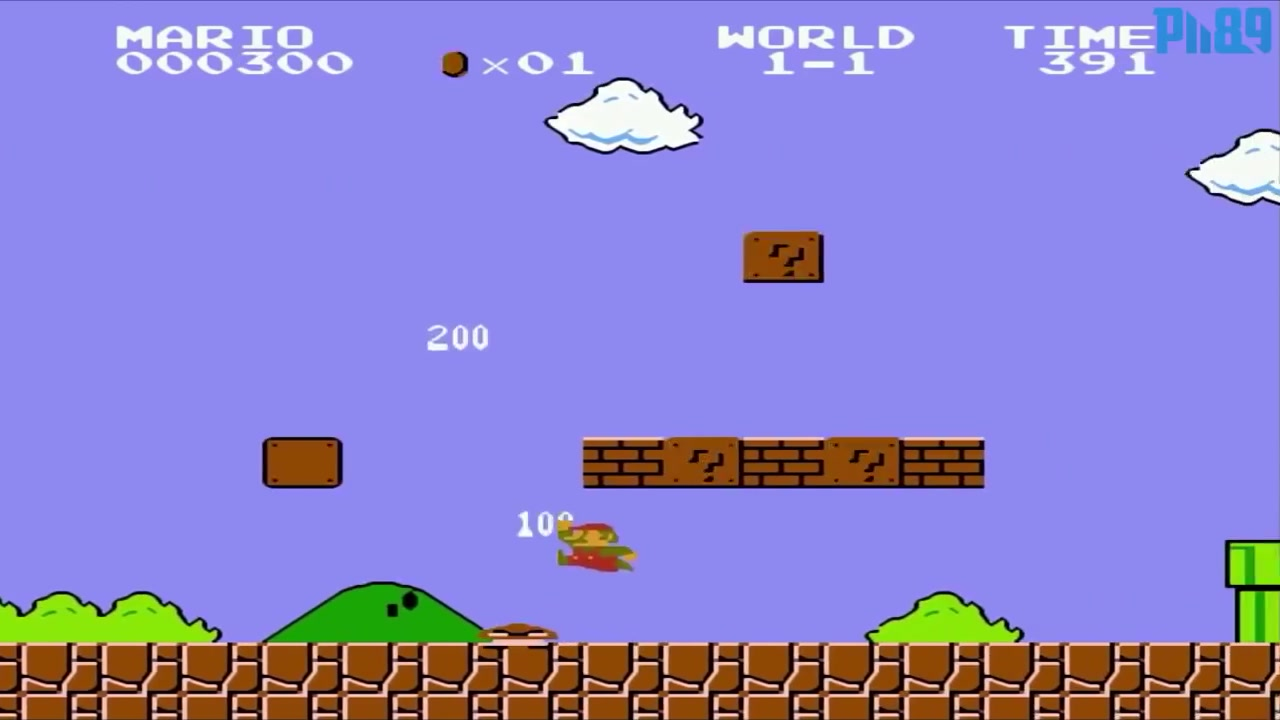mario: (542, 510, 638, 582)
